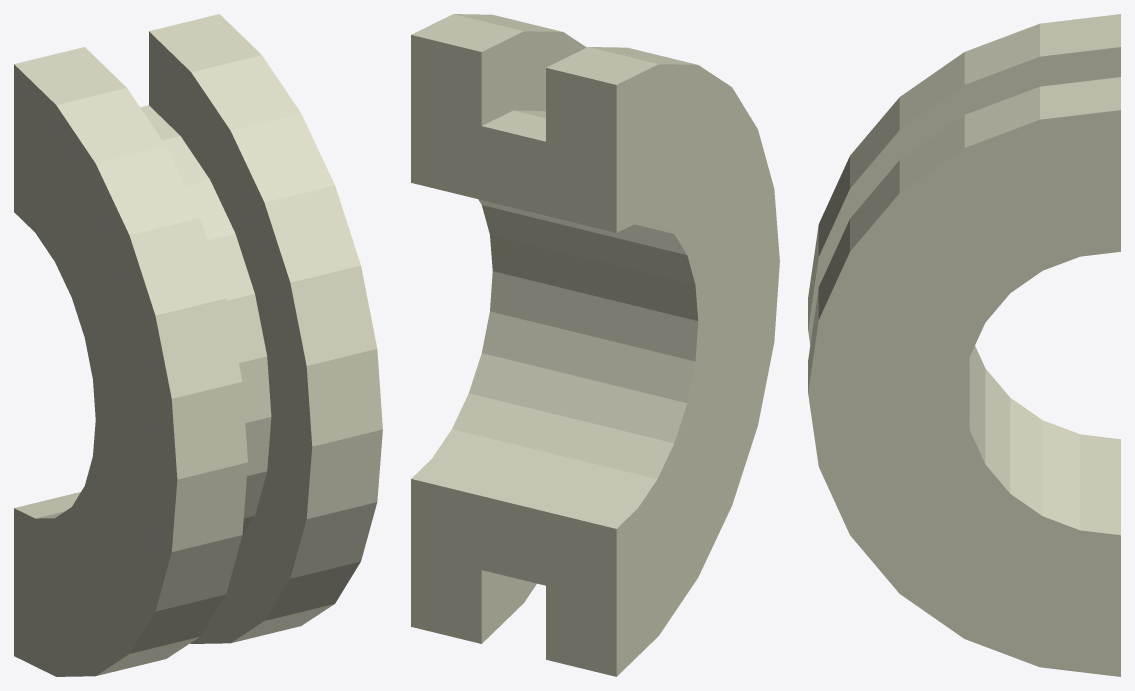
File: section_076.obj
3 renders of one model, left to right at view 1: azimuth 30°, elevation 25°; view 2: azimuth 150°, elevation 25°; view 3: azimuth 270°, elevation 25°, orthographic. The views are drawn at different scales.
Bounding box in the file's own units: 2.91 × 8 × 4.
